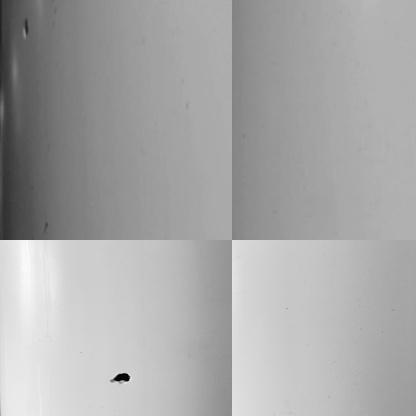kongdong: (107, 370, 133, 386), (19, 18, 30, 38)
